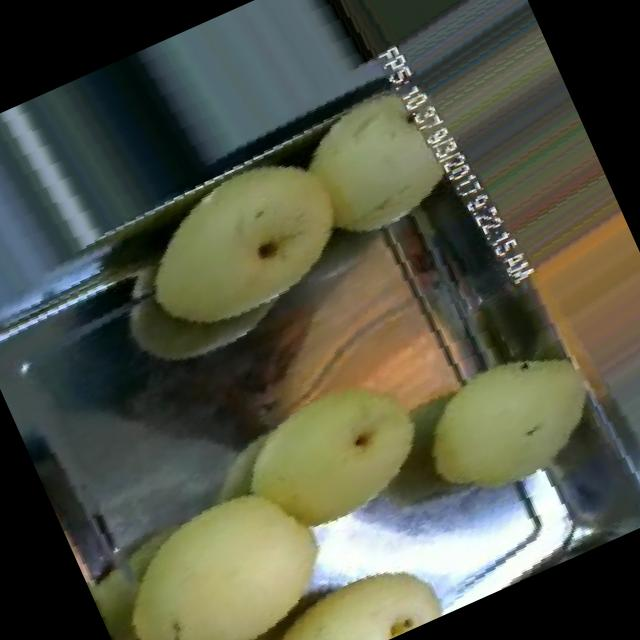Fruit: (134, 170, 550, 578), (95, 113, 396, 381), (74, 444, 365, 640), (384, 312, 637, 537), (265, 58, 484, 260), (480, 182, 640, 439), (180, 523, 468, 640)
